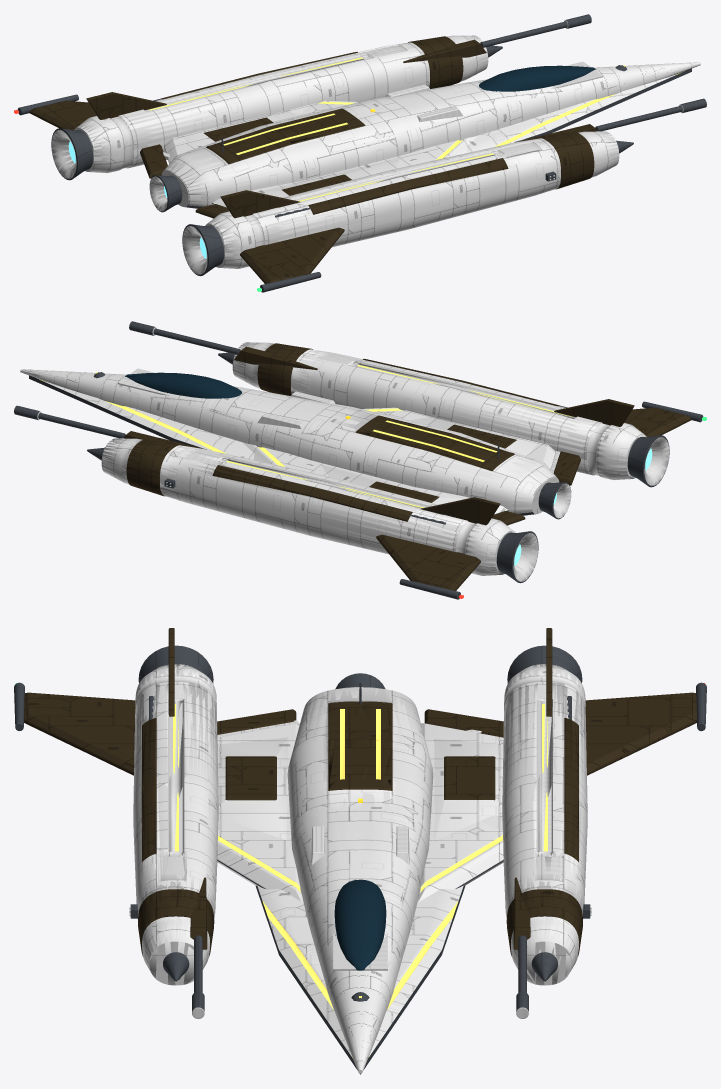
Rendered from wasp_mts_escort.glb.
The picture shows the model from 3 angles, top to bottom: view 1: azimuth 30°, elevation 25°; view 2: azimuth 150°, elevation 25°; view 3: azimuth 270°, elevation 25°; orthographic projection. The views are drawn at different scales.
Visible parts, largest first — view 1: LOD0_Hull, LOD2_Hull, LOD1_Hull, LOD0_Armor, LOD0_MechanicalDark, LOD0_MOTION_WASP_WINGLET_S_Armor, LOD0_Mechanical, LOD1_Armor, LOD2_MechanicalDark, LOD1_MechanicalDark, LOD2_Armor, LOD0_CANOPY (+9 smaller); view 2: LOD0_Hull, LOD2_Hull, LOD1_Hull, LOD0_Armor, LOD0_MechanicalDark, LOD0_Mechanical, LOD0_MOTION_WASP_WINGLET_P_Armor, LOD1_Armor, LOD2_MechanicalDark, LOD2_Armor, LOD1_MechanicalDark, LOD0_MOTION_WASP_WINGLET_S_Armor (+8 smaller); view 3: LOD0_Hull, LOD2_Hull, LOD1_Hull, LOD0_Armor, LOD0_MechanicalDark, LOD0_MOTION_WASP_WINGLET_S_Armor, LOD0_MOTION_WASP_WINGLET_P_Armor, LOD0_Mechanical, LOD1_Armor, LOD1_MechanicalDark, LOD2_Armor, LOD2_MechanicalDark (+8 smaller).
Part boxes in pixels (box(x1,y1,x2,y2)): LOD0_Hull: box(78, 35, 700, 268); LOD2_Hull: box(77, 35, 700, 268); LOD1_Hull: box(77, 36, 695, 268); LOD0_Armor: box(161, 36, 594, 218); LOD0_MechanicalDark: box(51, 44, 602, 274); LOD0_MOTION_WASP_WINGLET_S_Armor: box(220, 190, 344, 283); LOD0_Mechanical: box(51, 45, 700, 275); LOD1_Armor: box(162, 37, 594, 217); LOD2_MechanicalDark: box(51, 45, 541, 274); LOD1_MechanicalDark: box(51, 44, 602, 273); LOD2_Armor: box(162, 36, 594, 214); LOD0_CANOPY: box(479, 66, 595, 91); LOD0_Hull: box(20, 342, 643, 575); LOD2_Hull: box(21, 342, 643, 575); LOD1_Hull: box(38, 342, 642, 575); LOD0_Armor: box(127, 343, 580, 521); LOD0_MechanicalDark: box(118, 351, 669, 581); LOD0_Mechanical: box(20, 352, 669, 582); LOD0_MOTION_WASP_WINGLET_P_Armor: box(376, 534, 480, 590); LOD1_Armor: box(126, 345, 580, 520); LOD2_MechanicalDark: box(179, 352, 669, 581); LOD2_Armor: box(126, 343, 571, 521); LOD1_MechanicalDark: box(119, 351, 668, 570); LOD0_MOTION_WASP_WINGLET_S_Armor: box(554, 399, 691, 437); LOD0_Hull: box(133, 664, 587, 1073); LOD2_Hull: box(133, 664, 587, 1070); LOD1_Hull: box(133, 664, 587, 1064); LOD0_Armor: box(138, 701, 582, 956); LOD0_MechanicalDark: box(129, 675, 591, 985); LOD0_MOTION_WASP_WINGLET_S_Armor: box(24, 628, 174, 775); LOD0_MOTION_WASP_WINGLET_P_Armor: box(585, 692, 696, 775); LOD0_Mechanical: box(130, 645, 590, 1074); LOD1_Armor: box(141, 703, 582, 956); LOD1_MechanicalDark: box(129, 676, 591, 969); LOD2_Armor: box(138, 704, 582, 954); LOD2_MechanicalDark: box(145, 676, 575, 985).
Size of what is drawn, in the model's own units: 21.62 by 2.65 by 16.16.
10 materials, 4 textured.
